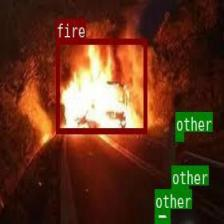fire: (56, 38, 146, 132)
